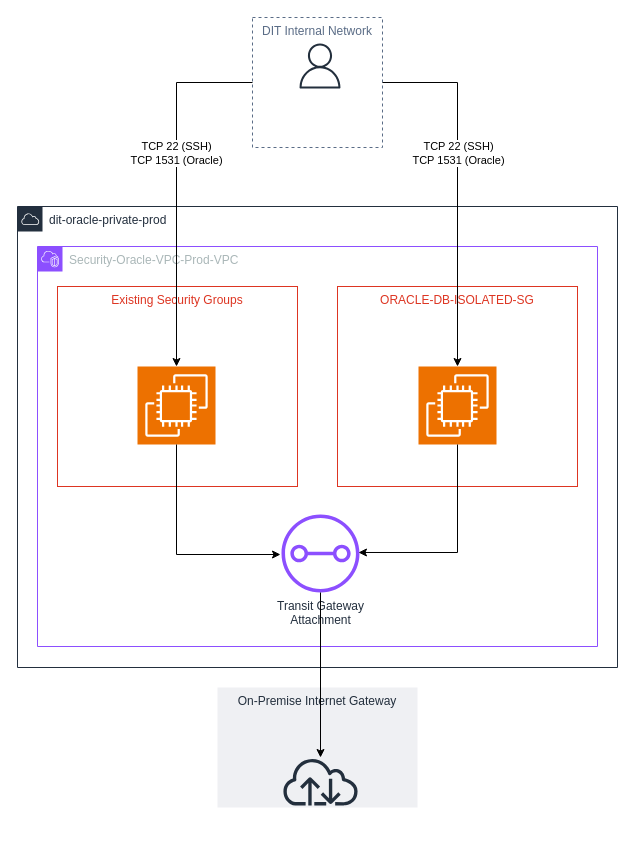
Some shapes in this 635 by 844 pixel diagram are drawn without their labels. Here are the shapes that lost their labels. From the top down, the centre of each, then its label:
At point 319,65: "DIT Testers/DBA/Cloud".
At point 176,405: "DTUPTRMORAWP01".
At point 457,405: "DTUPTRMORAWP01- RESTORED".
At point 320,781: "Internet".
